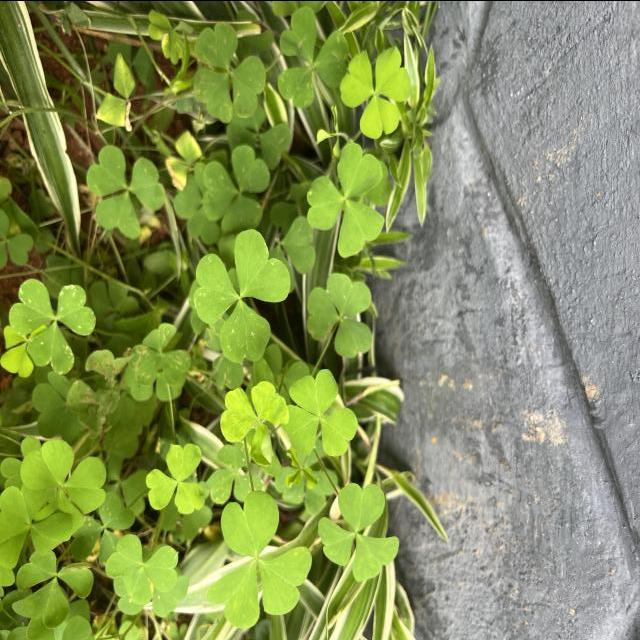Oxalis corniculata: (206, 488, 313, 629), (192, 226, 292, 363), (20, 436, 109, 554), (306, 141, 386, 258), (8, 276, 97, 375), (317, 480, 400, 582), (276, 5, 351, 110), (85, 143, 166, 240), (193, 20, 268, 123), (280, 366, 358, 457), (339, 45, 413, 140), (11, 548, 94, 628), (202, 142, 272, 235), (220, 380, 290, 466), (306, 271, 373, 359), (104, 532, 180, 605), (128, 320, 193, 390), (144, 441, 206, 514)
